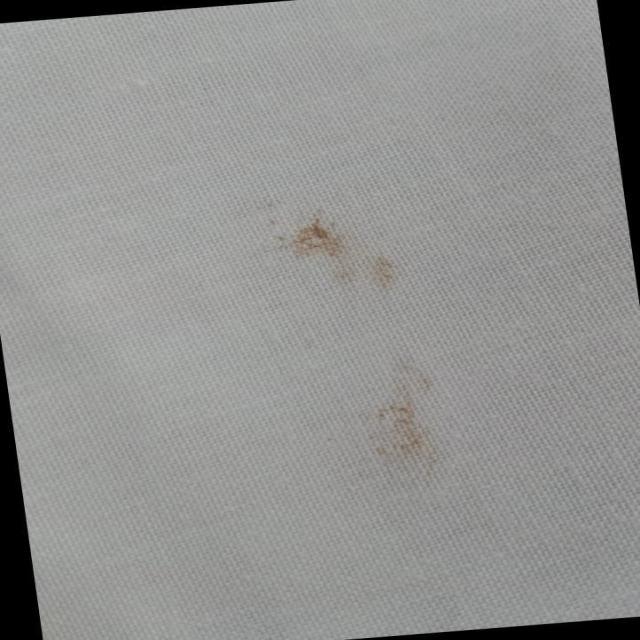stain: (274, 204, 418, 306), (351, 360, 466, 471)
